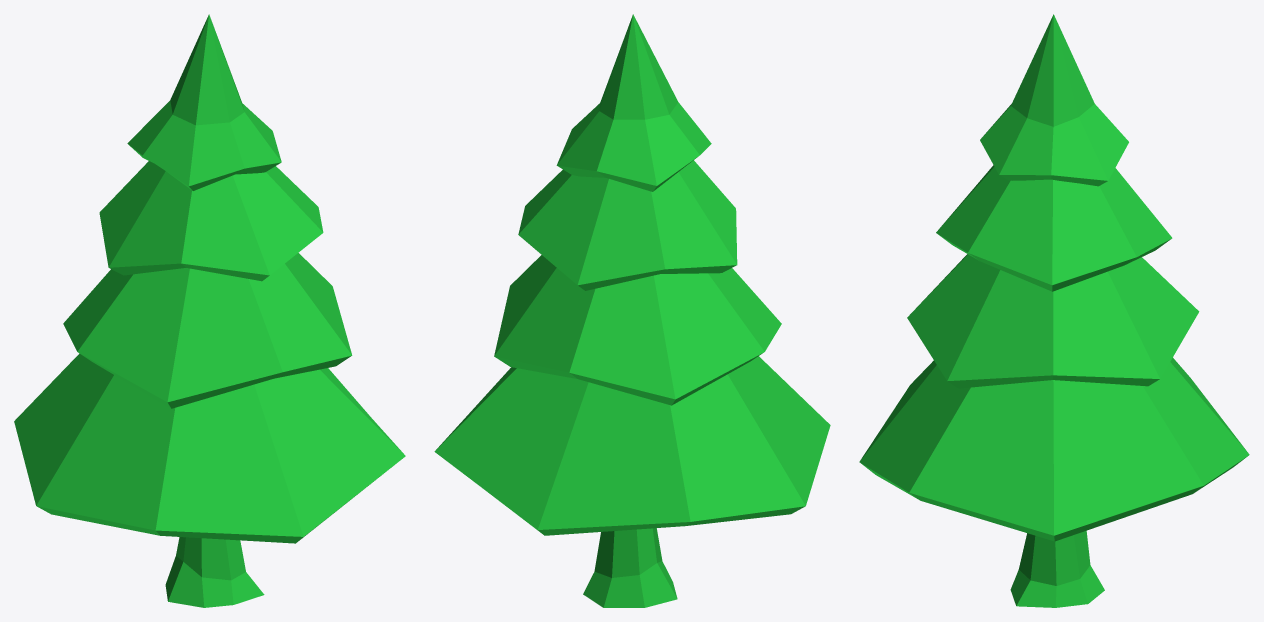
The model's file is Tree1.fbx.
3 renders of one model, left to right at view 1: azimuth 30°, elevation 25°; view 2: azimuth 150°, elevation 25°; view 3: azimuth 270°, elevation 25°, orthographic.
Parts seen in each view (by area): view 1: Tree_Spruce_small_02; view 2: Tree_Spruce_small_02; view 3: Tree_Spruce_small_02.
Part boxes in pixels (x1,y1,x2,y2): Tree_Spruce_small_02: (14,14,405,607); Tree_Spruce_small_02: (434,14,830,607); Tree_Spruce_small_02: (859,14,1249,607).
Size of the model in its own units: 1112 by 1825 by 1124.
